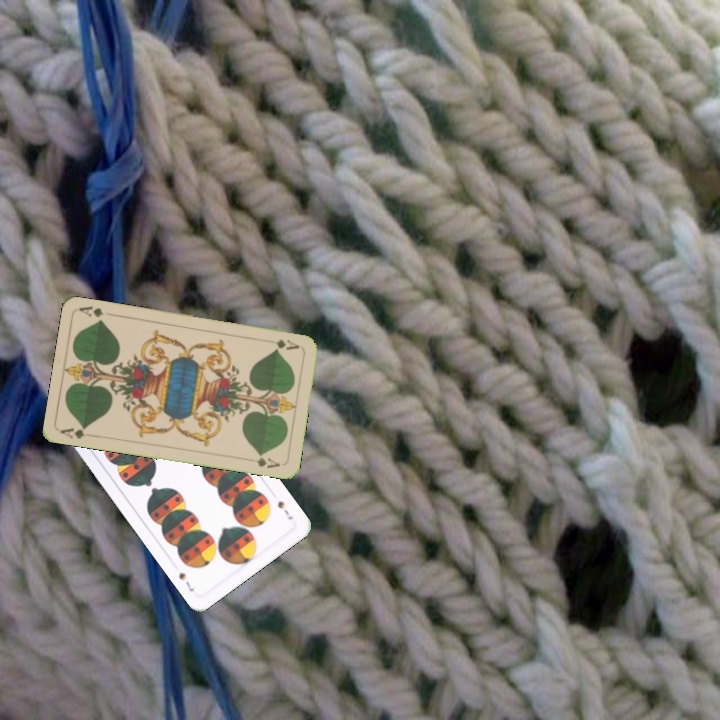GA: (262, 335, 301, 353), (57, 423, 90, 441)
S7: (274, 497, 296, 522)
